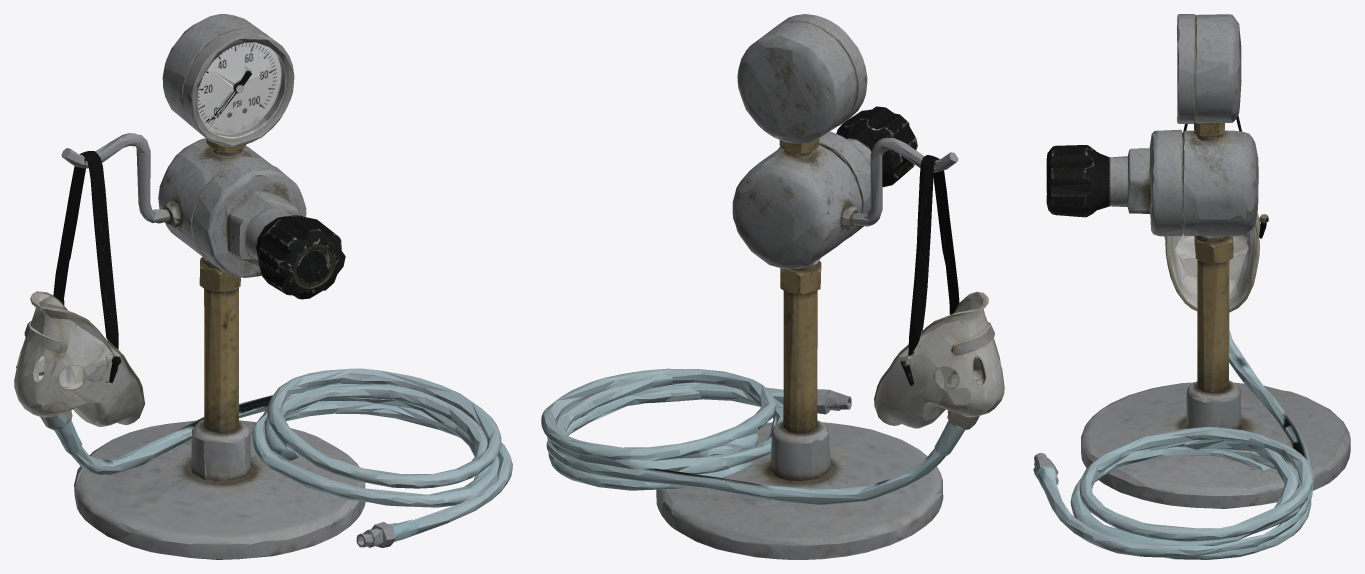
File: district-o2-station.glb
3 renders of one model, left to right at view 1: azimuth 30°, elevation 25°; view 2: azimuth 150°, elevation 25°; view 3: azimuth 270°, elevation 25°, orthographic. The views are drawn at different scales.
Parts seen in each view (by area): view 1: output_unwrapped; view 2: output_unwrapped; view 3: output_unwrapped.
Boxes of the visible parts, left/top/right/bottom form: output_unwrapped: left=14, top=14, right=512, bottom=559; output_unwrapped: left=541, top=14, right=1004, bottom=559; output_unwrapped: left=1033, top=14, right=1350, bottom=559.
Bounding box in the file's own units: 1.9 × 1.9 × 1.26.
Materials: 1 (1 with a texture image).
